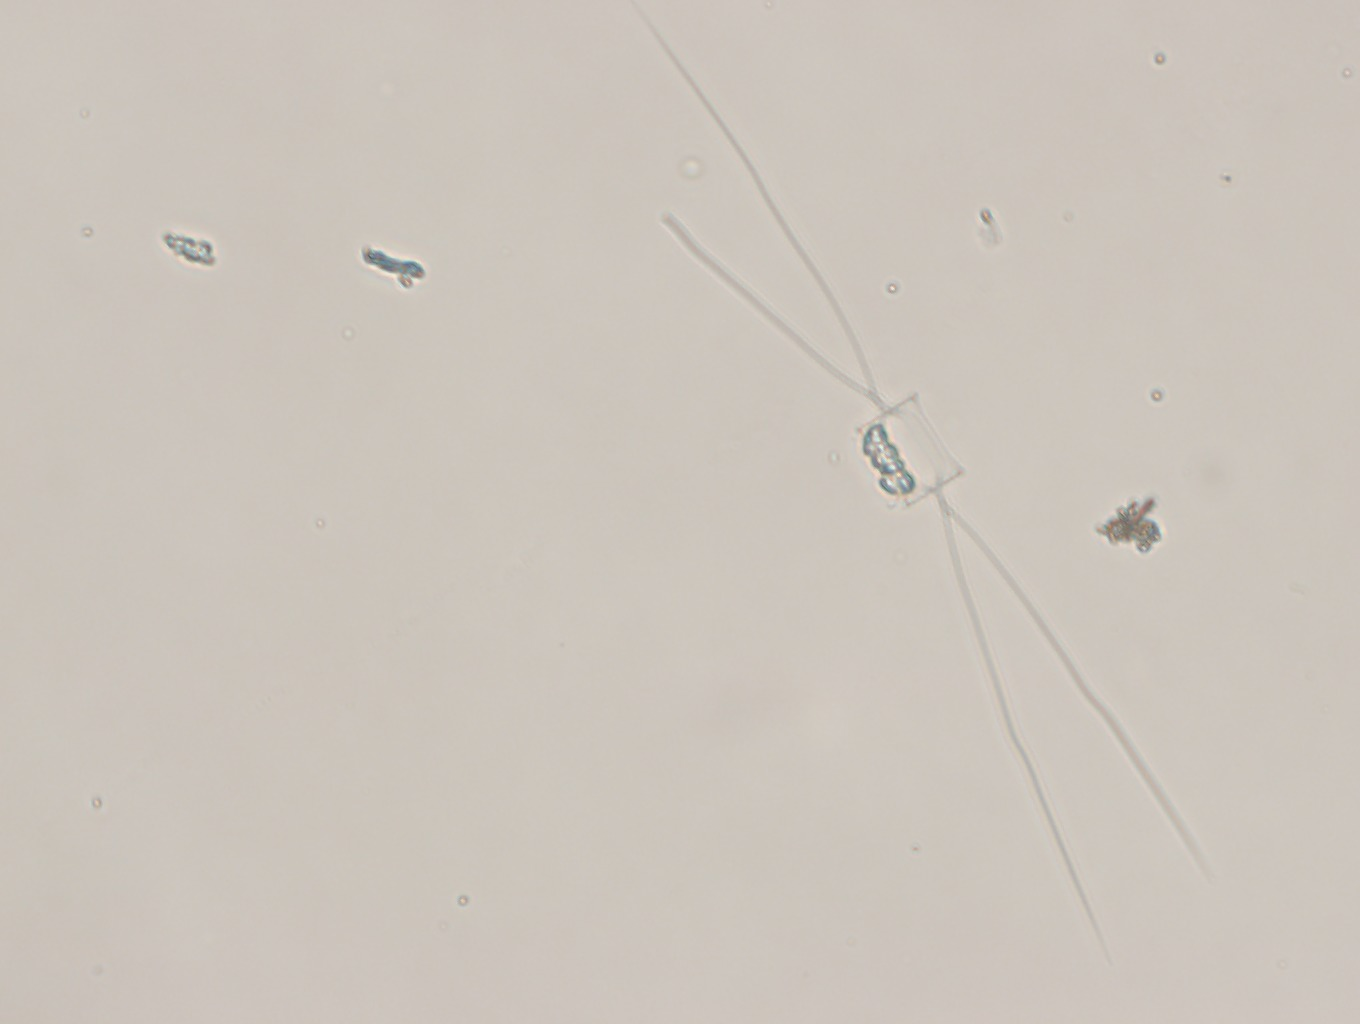chaetoceros: (633, 2, 1212, 962)
